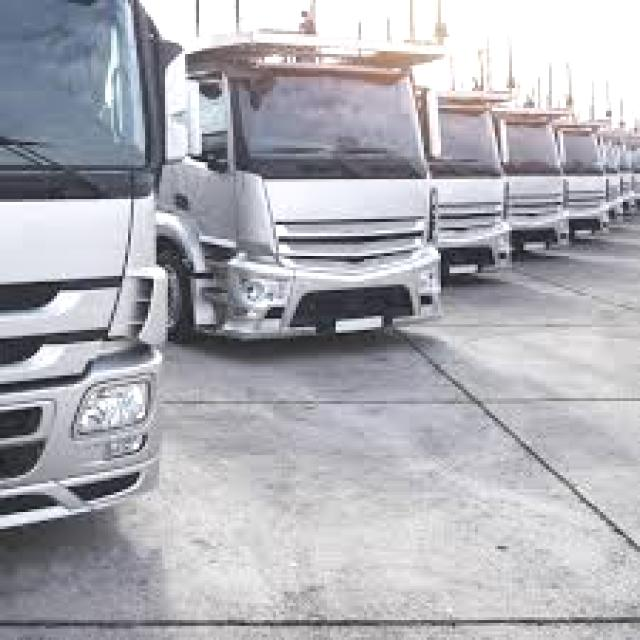TRUCK: (169, 16, 448, 346), (0, 1, 156, 533)
